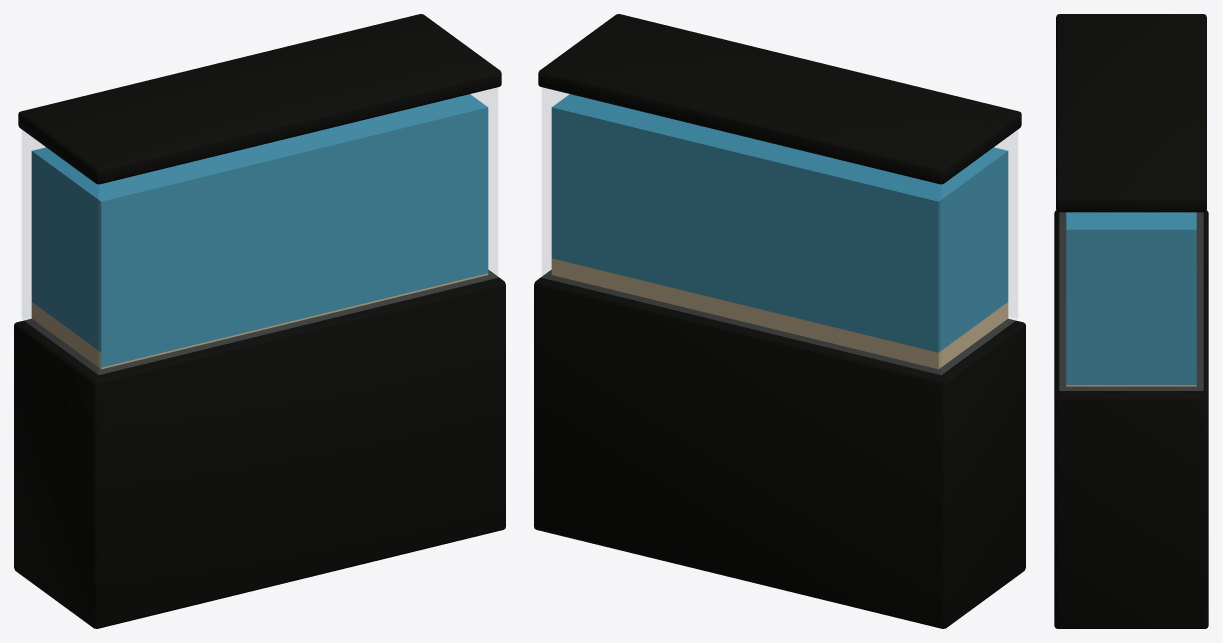
Rendered from fur_aquarium.glb.
3 renders of one model, left to right at view 1: azimuth 30°, elevation 25°; view 2: azimuth 150°, elevation 25°; view 3: azimuth 270°, elevation 25°, orthographic. The views are drawn at different scales.
Parts seen in each view (by area): view 1: FUR_aquarium; view 2: FUR_aquarium; view 3: FUR_aquarium.
Boxes of the visible parts, left/top/right/bottom form: FUR_aquarium: left=14, top=14, right=505, bottom=628; FUR_aquarium: left=534, top=14, right=1025, bottom=628; FUR_aquarium: left=1054, top=14, right=1208, bottom=628.
Size of the model in its own units: 1.3 by 1.38 by 0.45.
Materials: 4 (1 with a texture image).
